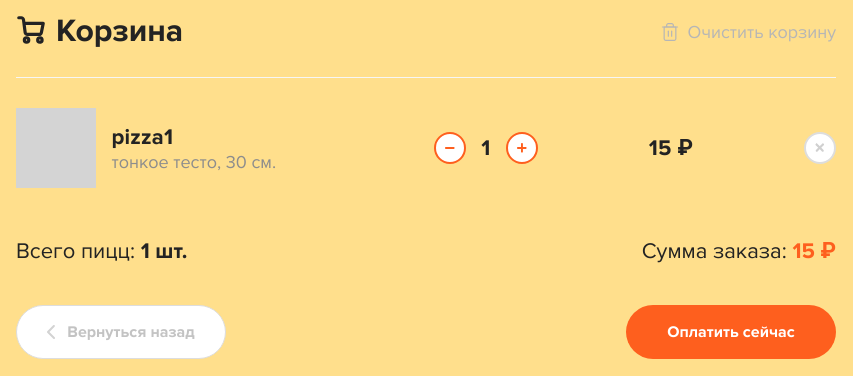
cart page render › cart with item should increase item
Expected: the text "1 шт." is shown, [141,238,187,265]
Click the button with test id "cart-item-row-increase".
click(522, 148)  # box [506,132,538,164]
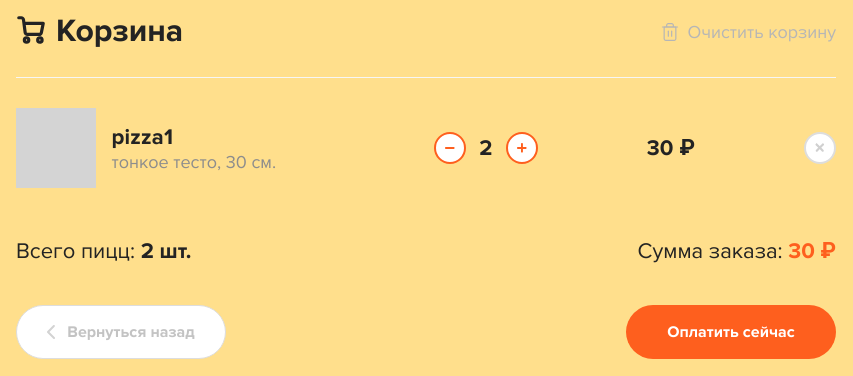
Result: the text "2 шт." is shown at [141,238,192,265]
